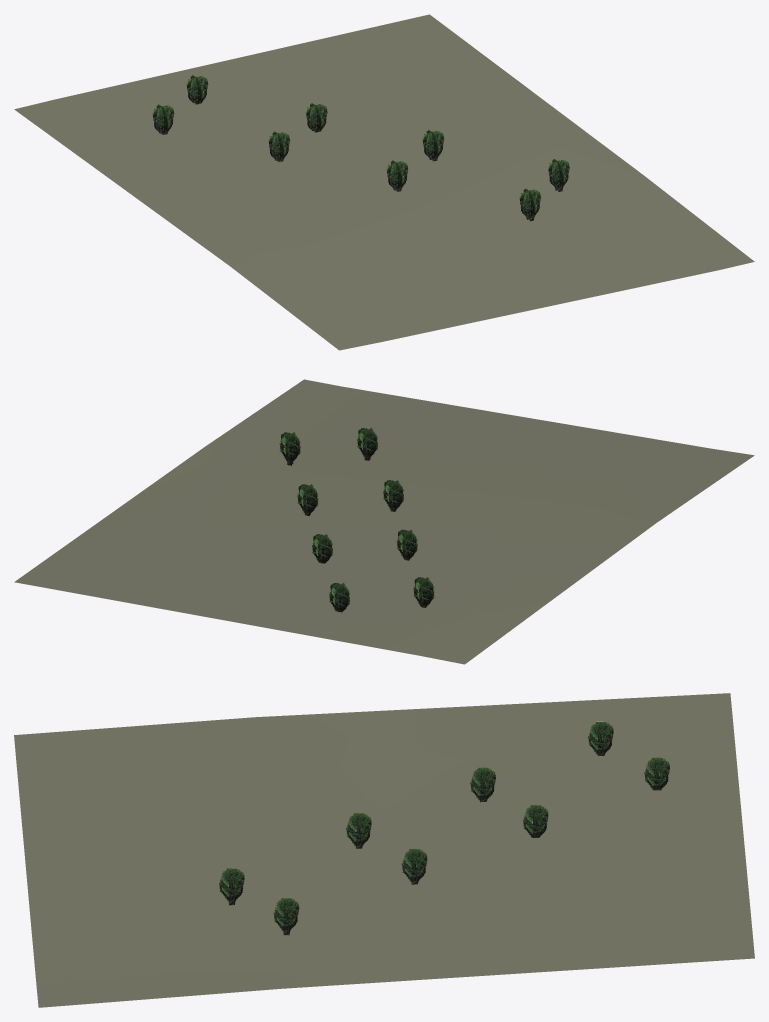
The model's file is Park.obj.
3 renders of one model, top to bottom at view 1: azimuth 30°, elevation 25°; view 2: azimuth 150°, elevation 25°; view 3: azimuth 270°, elevation 25°, orthographic. The views are drawn at different scales.
Visible parts, largest first — view 1: Mesh1 Google_Earth_Terrain Model; view 2: Mesh1 Google_Earth_Terrain Model; view 3: Mesh1 Google_Earth_Terrain Model, Mesh23 Group30 Group29 Model, Mesh20 Group26 Group25 Model, Mesh5 Group6 Group5 Model, Mesh2 Group2 Group1 Model, Mesh11 Group14 Group13 Model, Mesh8 Group10 Group9 Model, Mesh14 Group18 Group17 Model, Mesh17 Group22 Group21 Model.
Part boxes in pixels (x1=…): Mesh1 Google_Earth_Terrain Model: x1=14, y1=14, x2=754, y2=350; Mesh1 Google_Earth_Terrain Model: x1=14, y1=379, x2=754, y2=664; Mesh1 Google_Earth_Terrain Model: x1=14, y1=693, x2=754, y2=1007; Mesh23 Group30 Group29 Model: x1=273, y1=898, x2=299, y2=935; Mesh20 Group26 Group25 Model: x1=401, y1=848, x2=427, y2=884; Mesh5 Group6 Group5 Model: x1=219, y1=868, x2=244, y2=905; Mesh2 Group2 Group1 Model: x1=346, y1=813, x2=371, y2=848; Mesh11 Group14 Group13 Model: x1=588, y1=721, x2=613, y2=755; Mesh8 Group10 Group9 Model: x1=470, y1=767, x2=495, y2=802; Mesh14 Group18 Group17 Model: x1=644, y1=757, x2=669, y2=790; Mesh17 Group22 Group21 Model: x1=523, y1=804, x2=548, y2=837.
Size of the model in its own units: 49.8 by 7.32 by 60.32.
